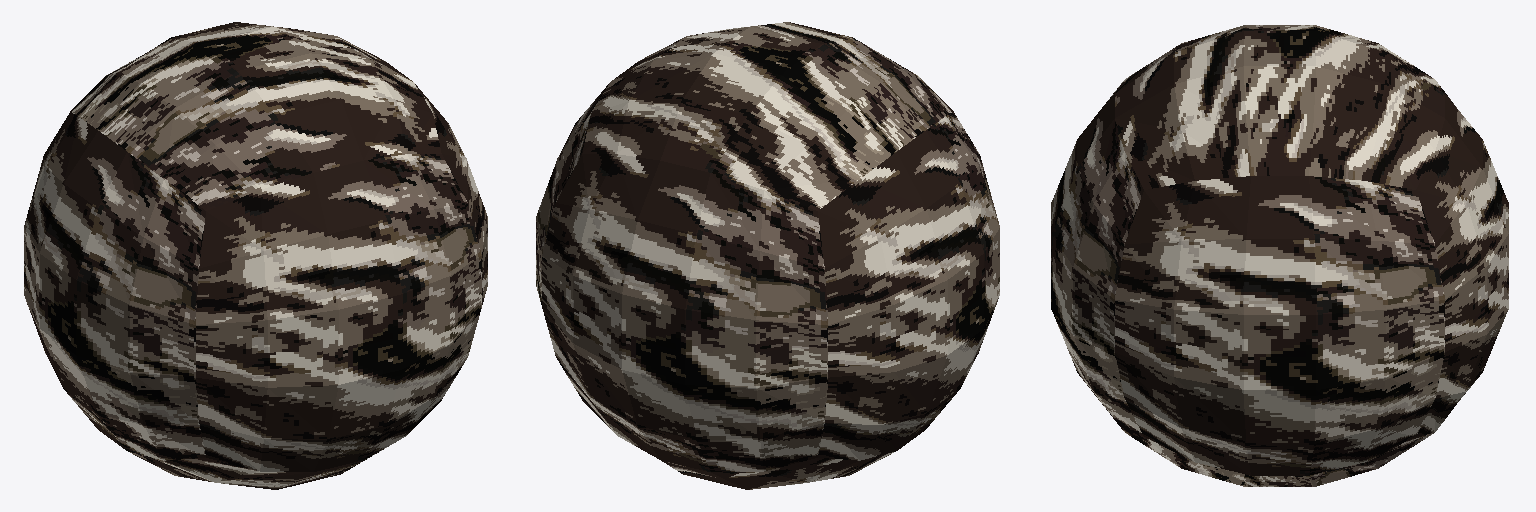
The picture shows the model from 3 angles: view 1: azimuth 30°, elevation 25°; view 2: azimuth 150°, elevation 25°; view 3: azimuth 270°, elevation 25°; orthographic projection.
Parts seen in each view (by area): view 1: 300.018; view 2: 300.018; view 3: 300.018.
Boxes of the visible parts, x1=… form: 300.018: x1=24, y1=22, x2=487, y2=489; 300.018: x1=536, y1=22, x2=999, y2=489; 300.018: x1=1051, y1=25, x2=1508, y2=486.
Bounding box in the file's own units: 3.36 × 3.36 × 3.36.
Materials: 1 (1 with a texture image).